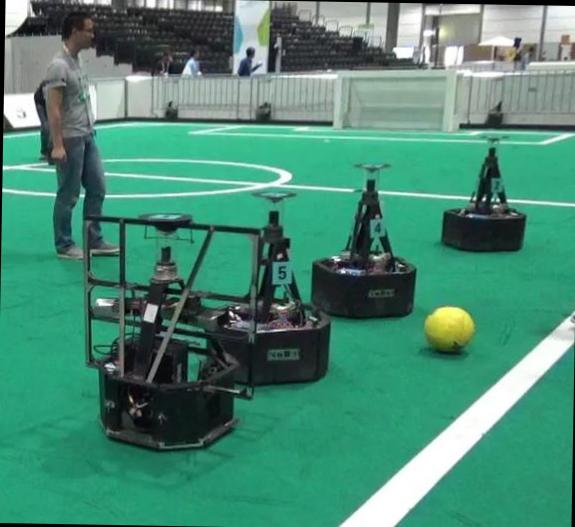ball: (423, 305, 474, 351)
goal: (440, 69, 454, 131), (331, 74, 341, 128)
person: (33, 10, 117, 259)
robot: (83, 212, 260, 449), (251, 191, 328, 384), (310, 178, 414, 315), (441, 147, 524, 250)
